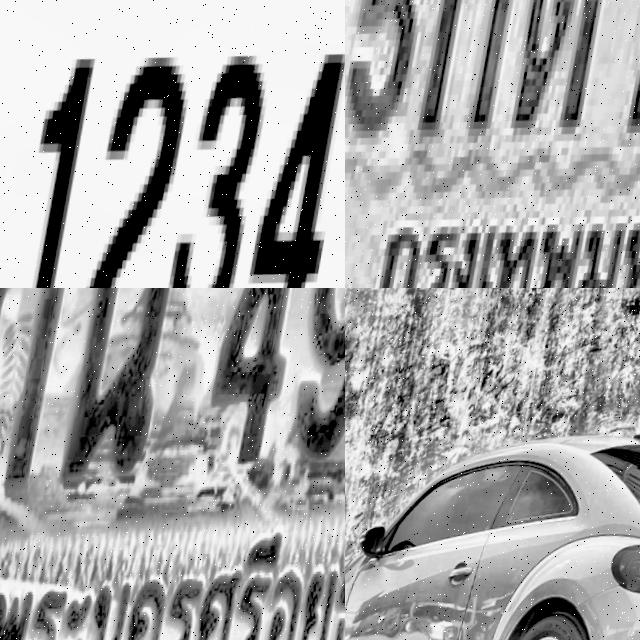license-plate: (0, 288, 345, 640), (0, 0, 345, 288), (345, 0, 640, 288)
